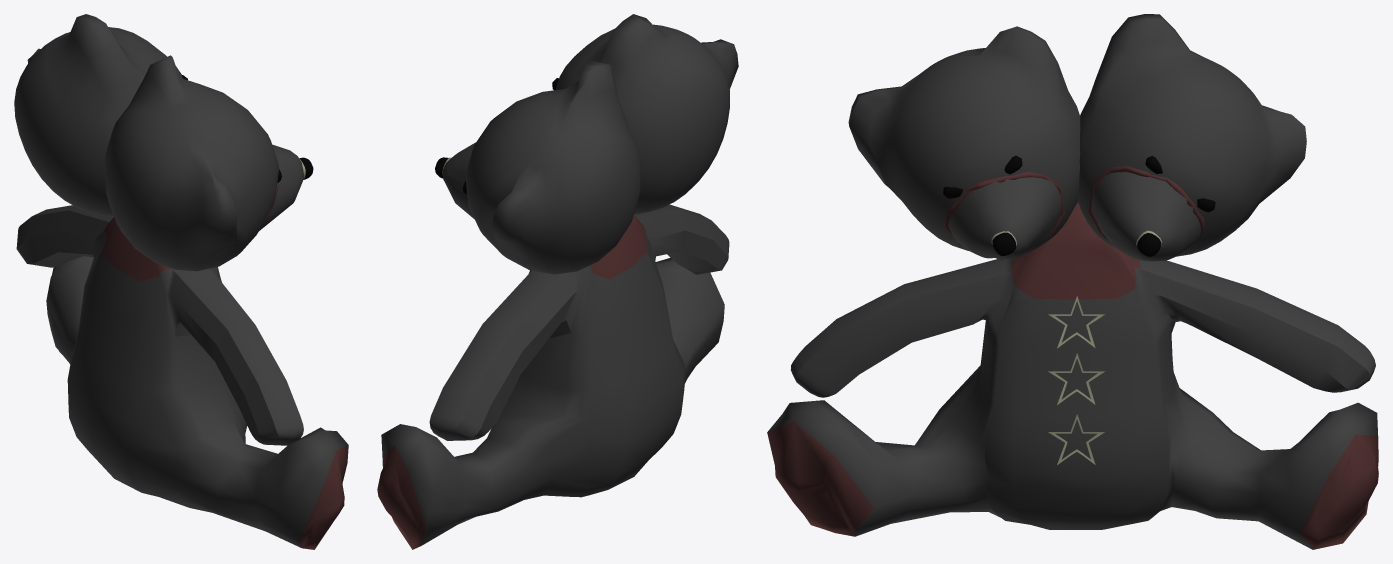
File: hell bear.fbx
The picture shows the model from 3 angles, left to right: view 1: azimuth 30°, elevation 25°; view 2: azimuth 150°, elevation 25°; view 3: azimuth 270°, elevation 25°; orthographic projection. The views are drawn at different scales.
Parts seen in each view (by area): view 1: pCube1, pSphere1 (×2), pSphere3; view 2: pCube1, pSphere1 (×2), pSphere3; view 3: pCube1, pSphere1 (×2), pSphere3 (×2), pCylinder1 (×2).
Boxes of the visible parts, bbox=[...] form: pCube1: bbox=[16, 205, 348, 549]; pSphere1 (×2): bbox=[14, 14, 279, 271]; pSphere3: bbox=[259, 144, 303, 230]; pCube1: bbox=[377, 204, 729, 549]; pSphere1 (×2): bbox=[465, 14, 738, 274]; pSphere3: bbox=[443, 142, 475, 218]; pCube1: bbox=[767, 202, 1378, 549]; pSphere1 (×2): bbox=[848, 14, 1306, 256]; pSphere3 (×2): bbox=[949, 172, 1200, 261]; pCylinder1 (×2): bbox=[944, 166, 1204, 249].
Size of the model in its own units: 3.1 by 6.6 by 7.52.
